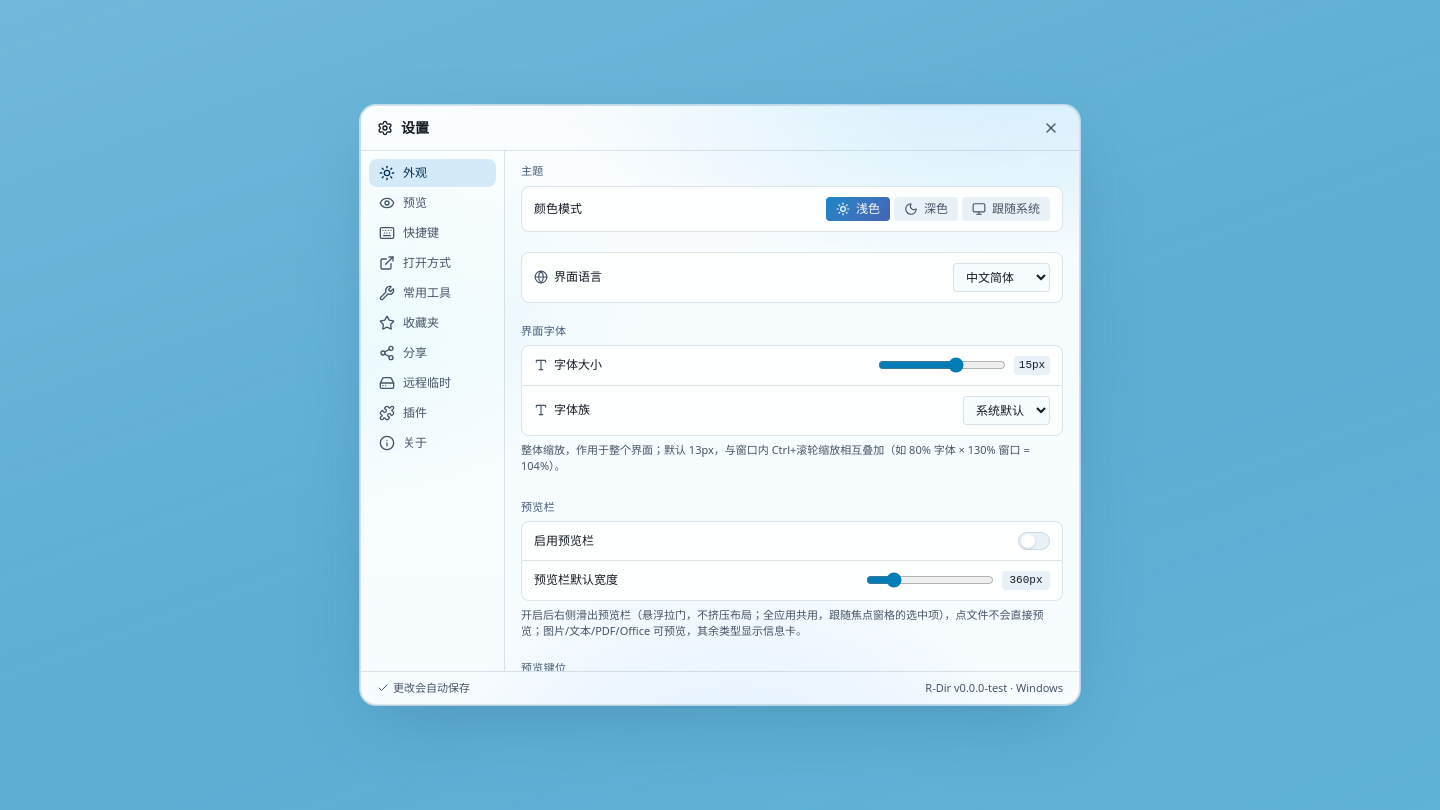
Test case: SettingsDialog 打开方式分区 › 空列表显示引导文案
Click the button "打开方式": (432, 263) 369,249 -> 496,277
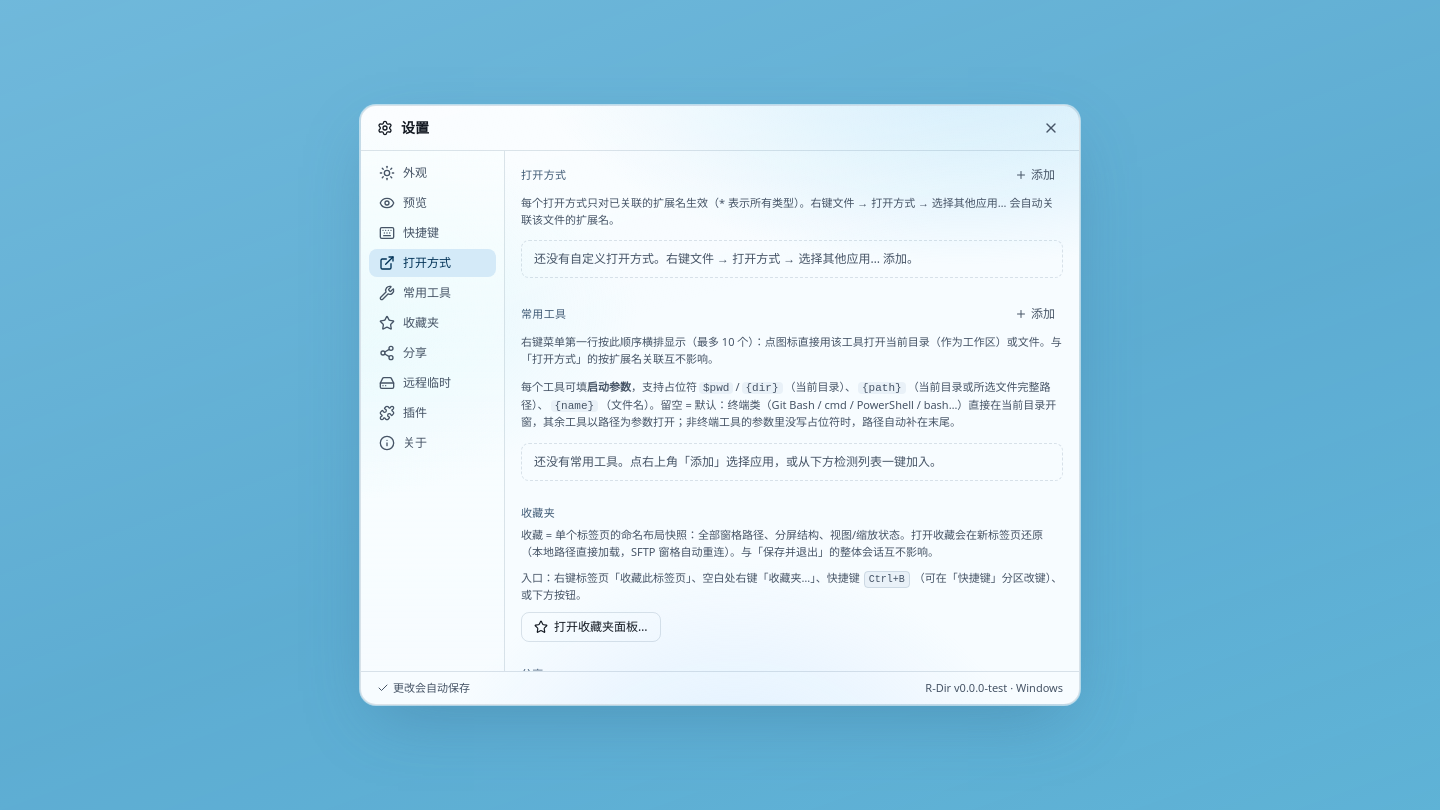
Expected: the text "还没有自定义打开方式。右键文件 → 打开方式 → 选择其他应用… 添加。" is shown, 521,240 -> 1063,278
